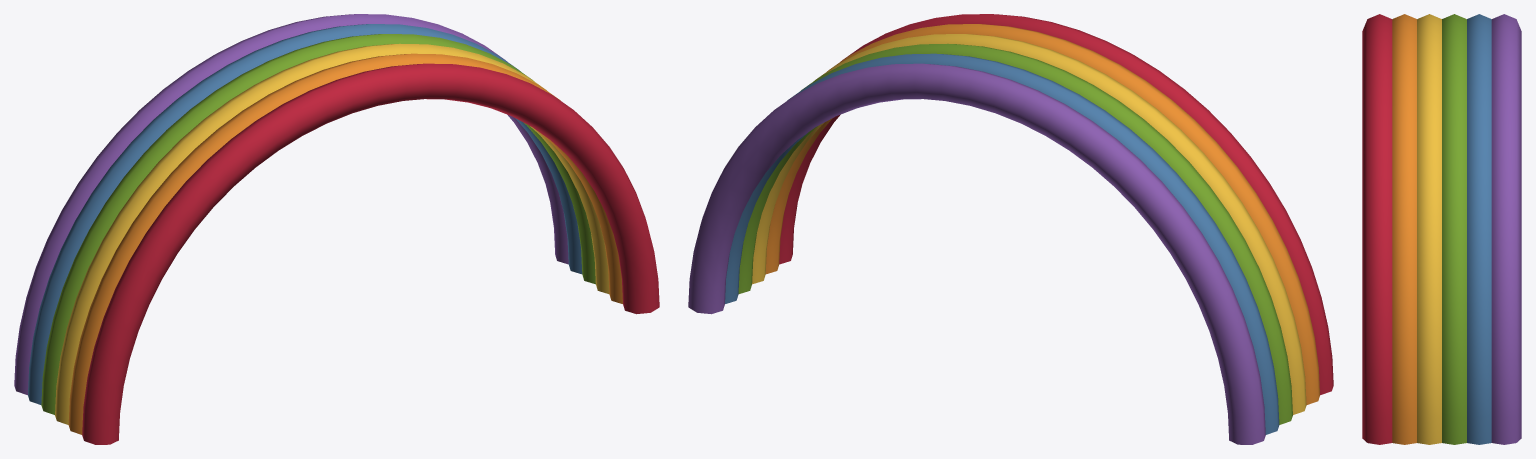
The model's file is spicy-rainbow.glb.
3 renders of one model, left to right at view 1: azimuth 30°, elevation 25°; view 2: azimuth 150°, elevation 25°; view 3: azimuth 270°, elevation 25°, orthographic. The views are drawn at different scales.
Parts seen in each view (by area): view 1: edible_rainbow, edible_rainbow.001, edible_rainbow.002, edible_rainbow.003, edible_rainbow.004, edible_rainbow.005; view 2: edible_rainbow.005, edible_rainbow.004, edible_rainbow.003, edible_rainbow.002, edible_rainbow.001, edible_rainbow; view 3: edible_rainbow, edible_rainbow.005, edible_rainbow.001, edible_rainbow.004, edible_rainbow.002, edible_rainbow.003.
Part boxes in pixels (box(x1,y1,x2,y2)): edible_rainbow: box(82, 63, 659, 444); edible_rainbow.001: box(68, 53, 622, 434); edible_rainbow.002: box(55, 43, 609, 424); edible_rainbow.003: box(41, 34, 595, 414); edible_rainbow.004: box(28, 24, 582, 404); edible_rainbow.005: box(14, 14, 568, 395); edible_rainbow.005: box(688, 63, 1265, 444); edible_rainbow.004: box(725, 53, 1279, 434); edible_rainbow.003: box(738, 43, 1292, 424); edible_rainbow.002: box(752, 34, 1306, 414); edible_rainbow.001: box(765, 24, 1319, 404); edible_rainbow: box(779, 14, 1333, 395); edible_rainbow: box(1362, 14, 1392, 444); edible_rainbow.005: box(1491, 14, 1521, 444); edible_rainbow.001: box(1392, 14, 1416, 444); edible_rainbow.004: box(1467, 14, 1491, 444); edible_rainbow.002: box(1417, 14, 1441, 444); edible_rainbow.003: box(1442, 14, 1466, 444).
Size of the model in its own units: 0.244 by 0.1223 by 0.064.
